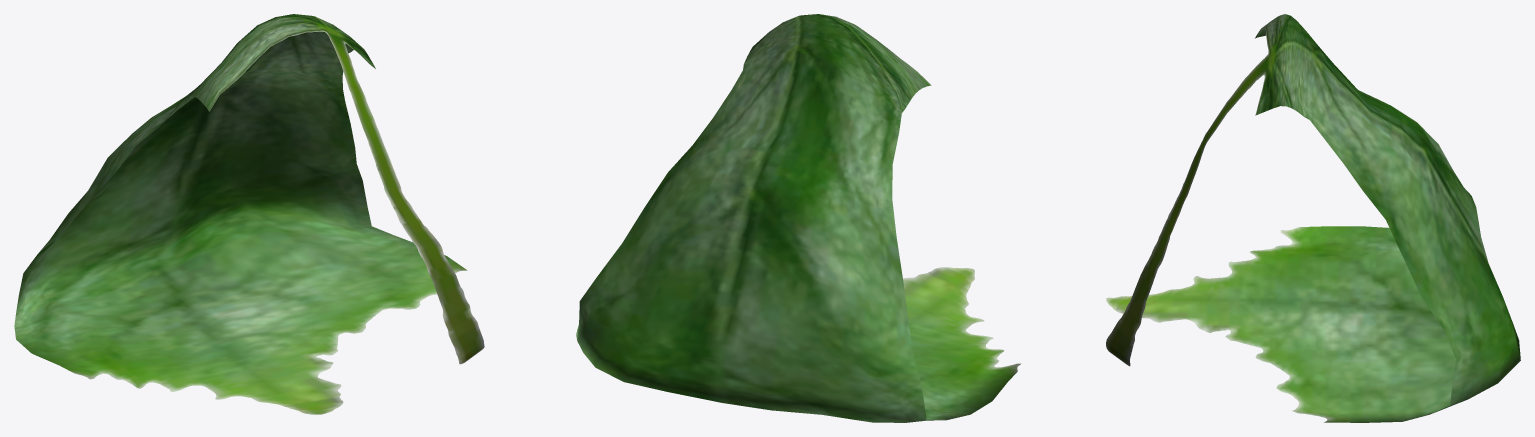
File: Mountain.fbx
3 views of the same model, side by side, from view 1: azimuth 30°, elevation 25°; view 2: azimuth 150°, elevation 25°; view 3: azimuth 270°, elevation 25° (orthographic). The views are drawn at different scales.
Visible parts, largest first — view 1: pCube1; view 2: pCube1; view 3: pCube1.
Part boxes in pixels (left/top/right/bottom): pCube1: left=14, top=14, right=484, bottom=414; pCube1: left=576, top=14, right=1020, bottom=422; pCube1: left=1106, top=14, right=1520, bottom=422.
Bounding box in the file's own units: 1708 × 1268 × 1611.
